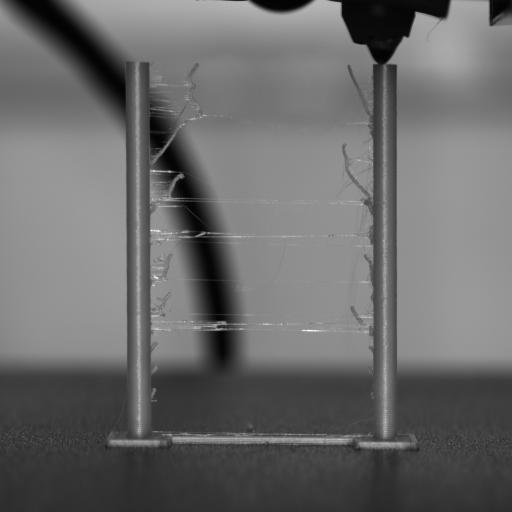spaghetti_and_stringing: (150, 286, 227, 344), (343, 142, 372, 204), (151, 172, 185, 218), (347, 63, 371, 119), (186, 63, 202, 118), (151, 250, 173, 284), (150, 292, 171, 323), (363, 252, 374, 286), (150, 340, 158, 354), (150, 364, 158, 377), (149, 202, 157, 215), (366, 366, 374, 378), (150, 388, 156, 399), (368, 345, 374, 354), (369, 326, 373, 337), (370, 391, 374, 401), (151, 330, 154, 336)
